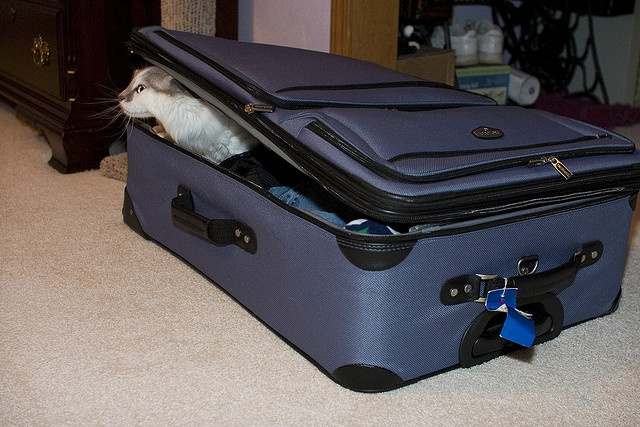cat: (117, 66, 366, 230)
